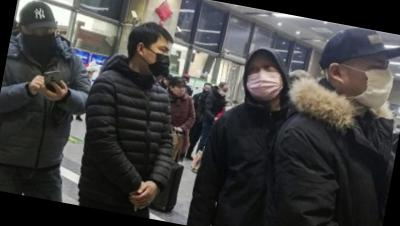with_mask: (340, 58, 398, 112), (242, 61, 288, 106), (20, 25, 58, 58), (142, 42, 175, 77), (218, 83, 230, 99), (202, 85, 213, 96), (224, 101, 234, 113)
without_mask: (172, 84, 187, 100)
